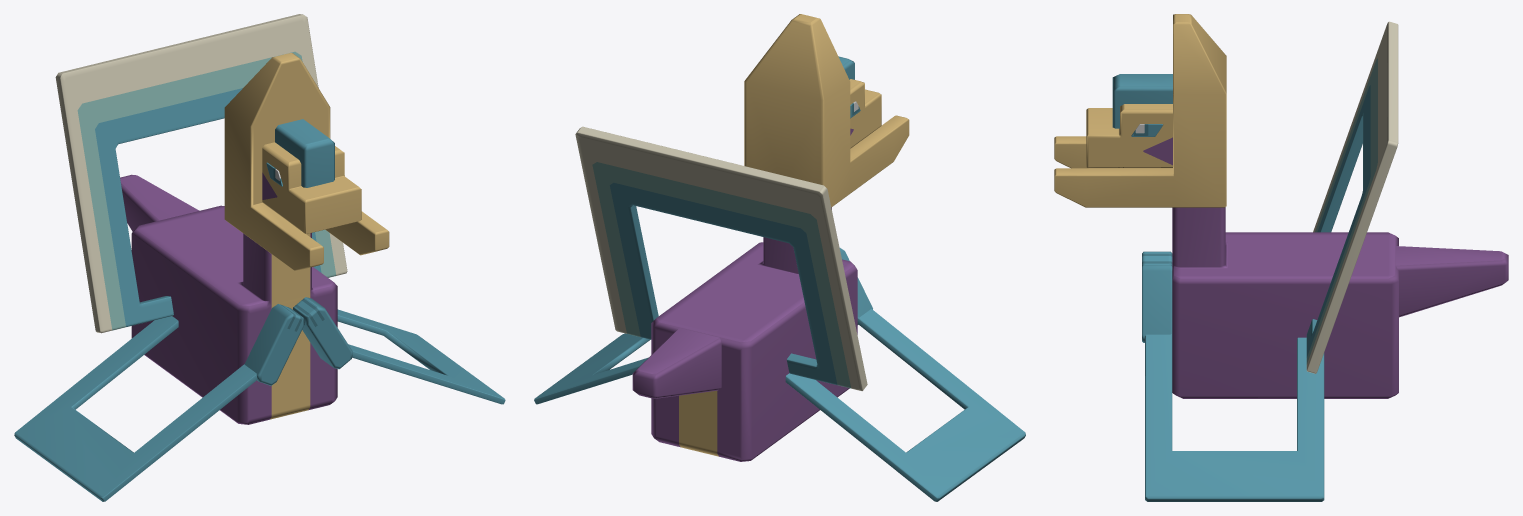
The picture shows the model from 3 angles, left to right: view 1: azimuth 30°, elevation 25°; view 2: azimuth 150°, elevation 25°; view 3: azimuth 270°, elevation 25°; orthographic projection.
Parts seen in each view (by area): view 1: model; view 2: model; view 3: model.
Boxes of the visible parts, left/top/right/bottom form: model: left=14, top=14, right=505, bottom=501; model: left=534, top=14, right=1025, bottom=501; model: left=1054, top=14, right=1508, bottom=501.
Size of the model in its own units: 4.32 by 3.91 by 4.18.
